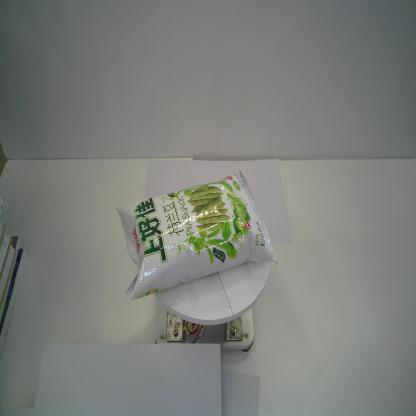Puffed Food: (116, 167, 279, 300)
